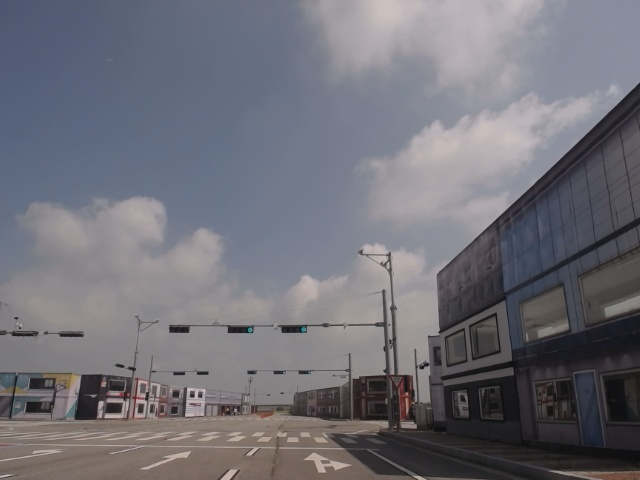straight_green_4: (228, 324, 254, 334), (282, 326, 308, 334)
